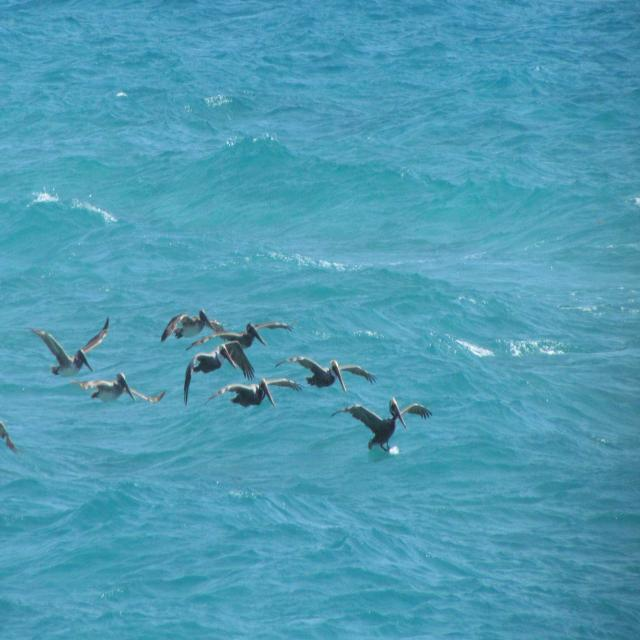bird: (326, 401, 430, 454), (26, 316, 112, 380), (164, 310, 296, 350), (274, 355, 376, 394), (200, 382, 290, 413), (73, 376, 160, 408), (180, 353, 228, 406)
